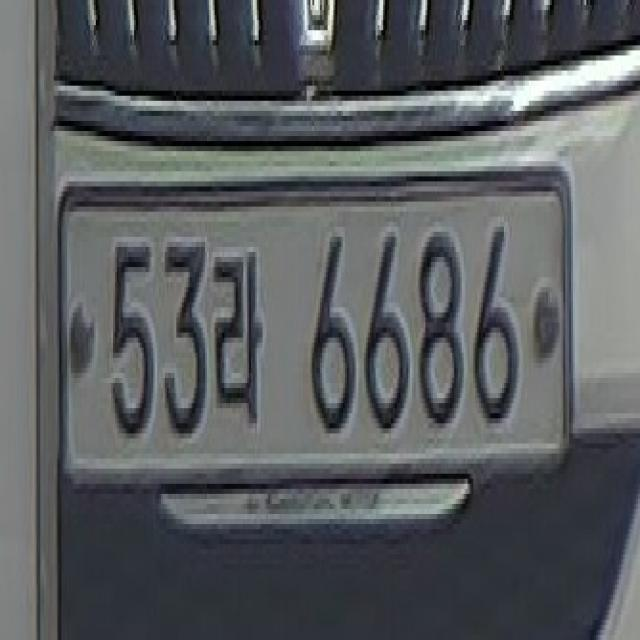3: (157, 228, 210, 456)
5: (106, 233, 156, 453)
6: (308, 228, 361, 450), (470, 222, 521, 443), (365, 231, 412, 457)
8: (412, 232, 464, 446)
la: (213, 238, 273, 444)
license_plate: (53, 162, 580, 476)
